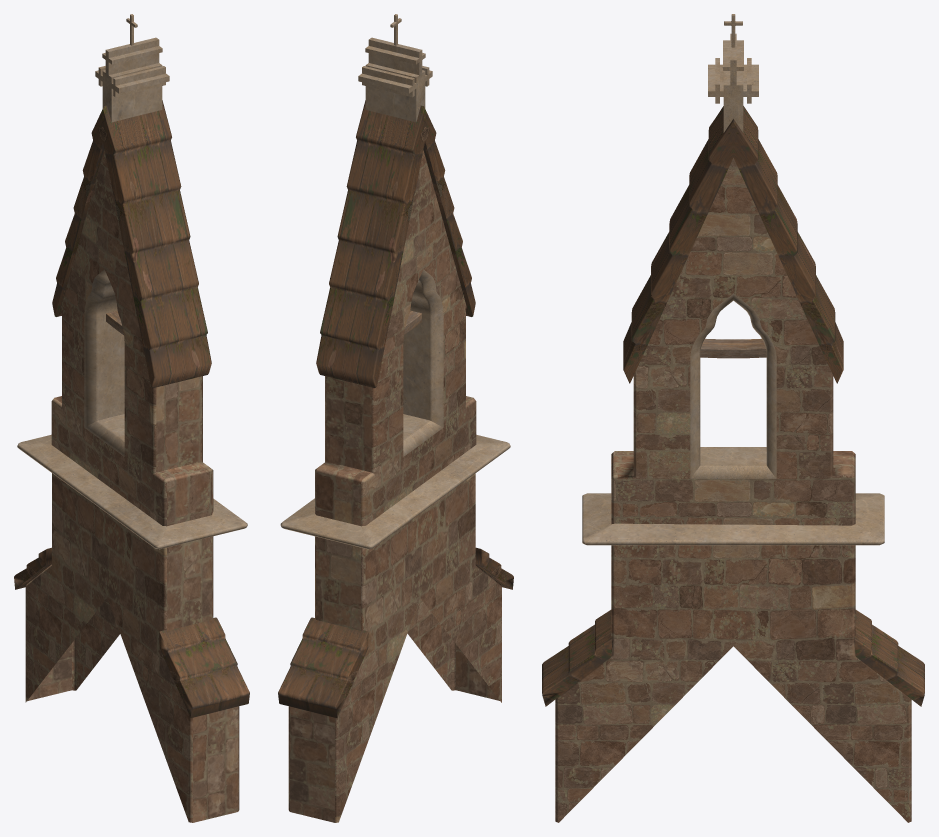
Rendered from SM_ChurchD.fbx.
3 views of the same model, side by side, from view 1: azimuth 30°, elevation 25°; view 2: azimuth 150°, elevation 25°; view 3: azimuth 270°, elevation 25° (orthographic). The views are drawn at different scales.
Parts seen in each view (by area): view 1: SM_ChurchD_LOD0; view 2: SM_ChurchD_LOD0; view 3: SM_ChurchD_LOD0.
Part boxes in pixels (x1,y1,x2,y2): SM_ChurchD_LOD0: (14, 14, 249, 822); SM_ChurchD_LOD0: (278, 14, 513, 822); SM_ChurchD_LOD0: (542, 14, 924, 822).
Bounding box in the file's own units: 77.46 × 259 × 595.
4 materials, 4 textured.
